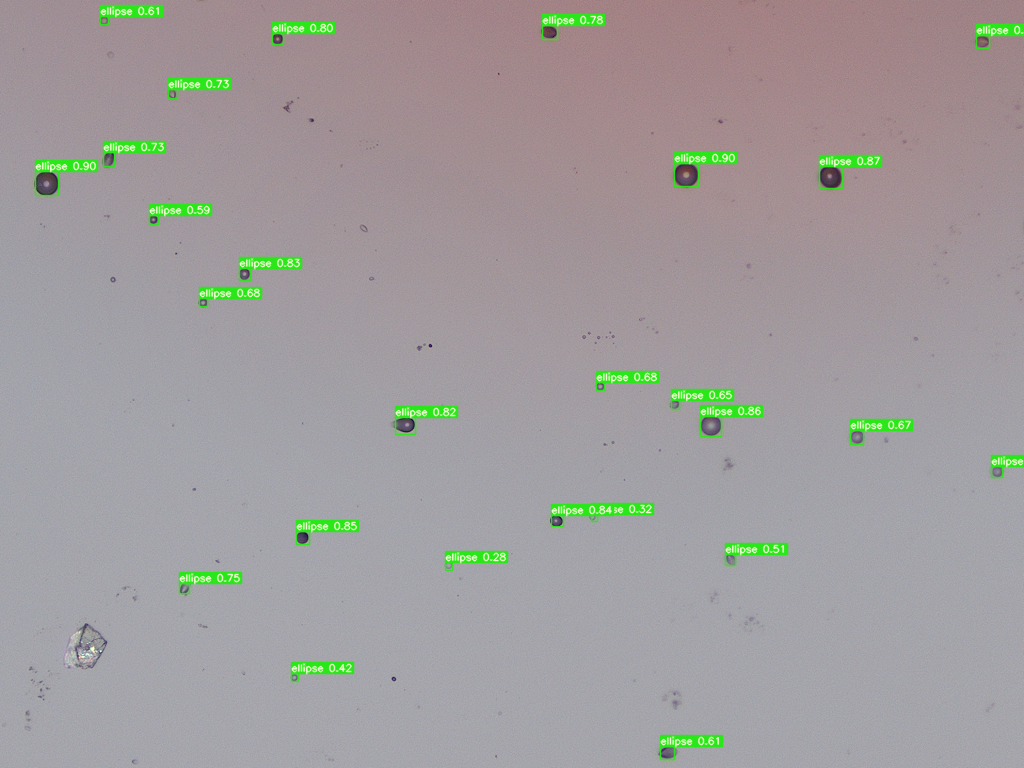circle: (34, 171, 57, 194), (674, 163, 697, 186), (701, 415, 720, 435), (296, 531, 308, 543), (851, 430, 863, 442), (550, 515, 561, 526), (239, 268, 249, 278), (272, 33, 282, 43), (992, 466, 1002, 476), (198, 298, 207, 306), (670, 400, 678, 408), (149, 215, 157, 223), (596, 382, 603, 390), (100, 16, 107, 23), (445, 561, 451, 568), (291, 674, 297, 680), (590, 514, 595, 519), (110, 277, 115, 281)
ellipse: (819, 165, 841, 188), (541, 26, 557, 38), (726, 554, 735, 565), (168, 89, 175, 98), (360, 224, 367, 231)
